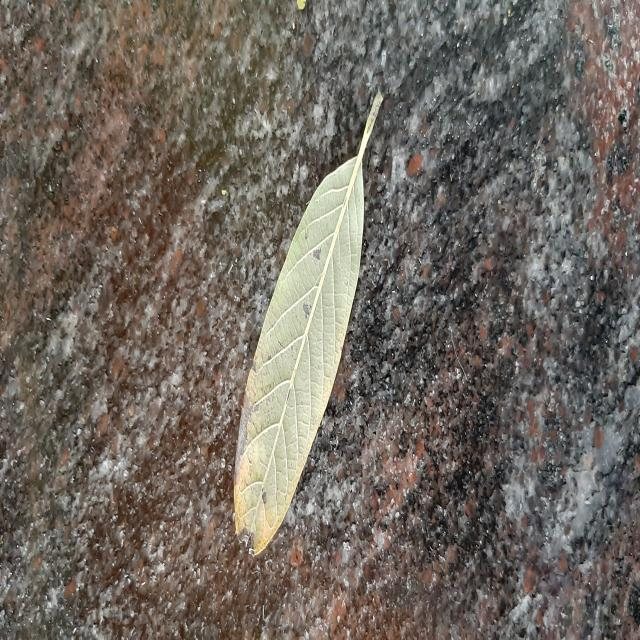leaf: (231, 90, 384, 556)
